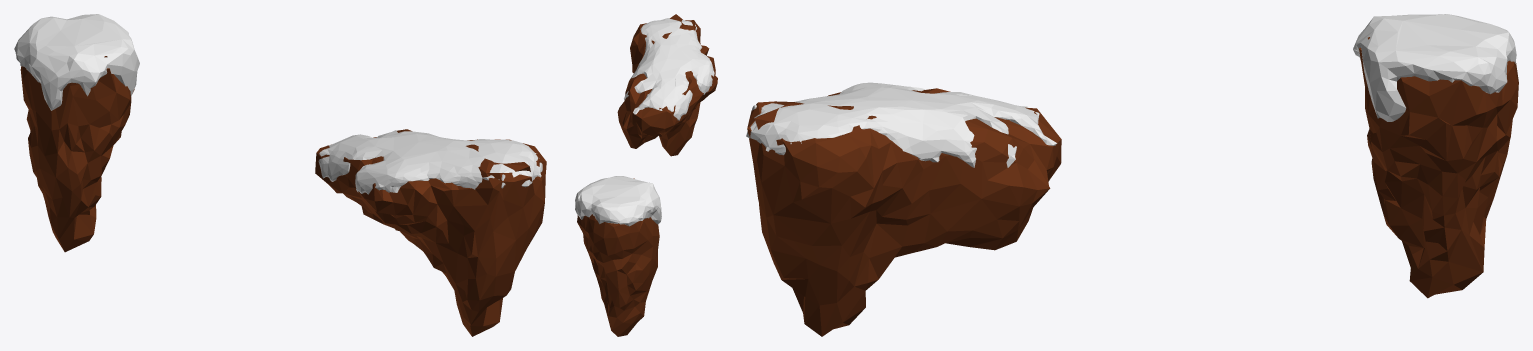
File: Tre_Isola4.fbx
3 views of the same model, side by side, from view 1: azimuth 30°, elevation 25°; view 2: azimuth 150°, elevation 25°; view 3: azimuth 270°, elevation 25° (orthographic). The views are drawn at different scales.
Parts seen in each view (by area): view 1: Plane.030, Plane.031, Plane.029, Plane.032; view 2: Plane.031, Plane.029, Plane.030, Plane.032; view 3: Plane.030, Plane.031, Plane.029, Plane.032.
Part boxes in pixels (box(x1,y1,x2,y2)): Plane.030: box(315, 129, 546, 336); Plane.031: box(20, 56, 134, 252); Plane.029: box(318, 130, 542, 194); Plane.032: box(14, 14, 139, 110); Plane.031: box(577, 178, 659, 336); Plane.029: box(624, 18, 714, 120); Plane.030: box(617, 14, 717, 156); Plane.032: box(575, 176, 661, 226); Plane.030: box(747, 88, 1061, 336); Plane.031: box(1359, 37, 1518, 298); Plane.029: box(746, 82, 1057, 167); Plane.032: box(1353, 14, 1516, 121).
Size of the model in its own units: 135 by 114 by 268.
